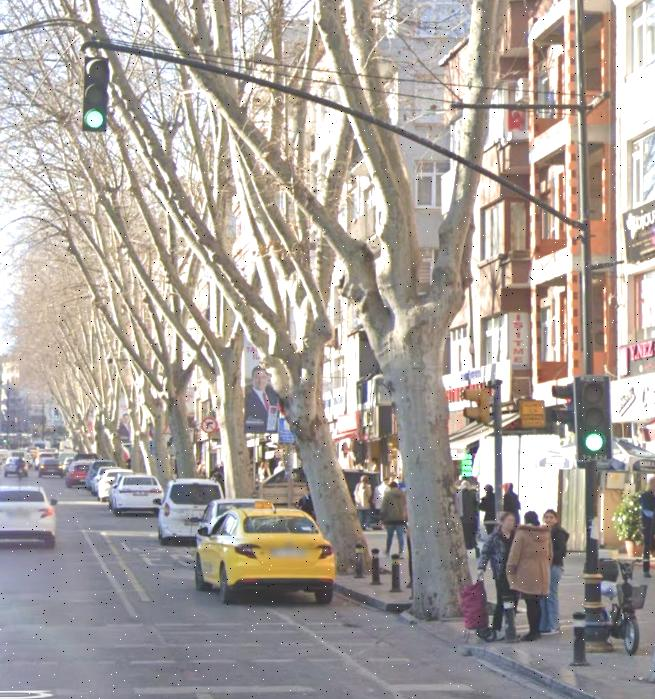greenlight: (575, 373, 615, 461), (81, 56, 108, 129)
